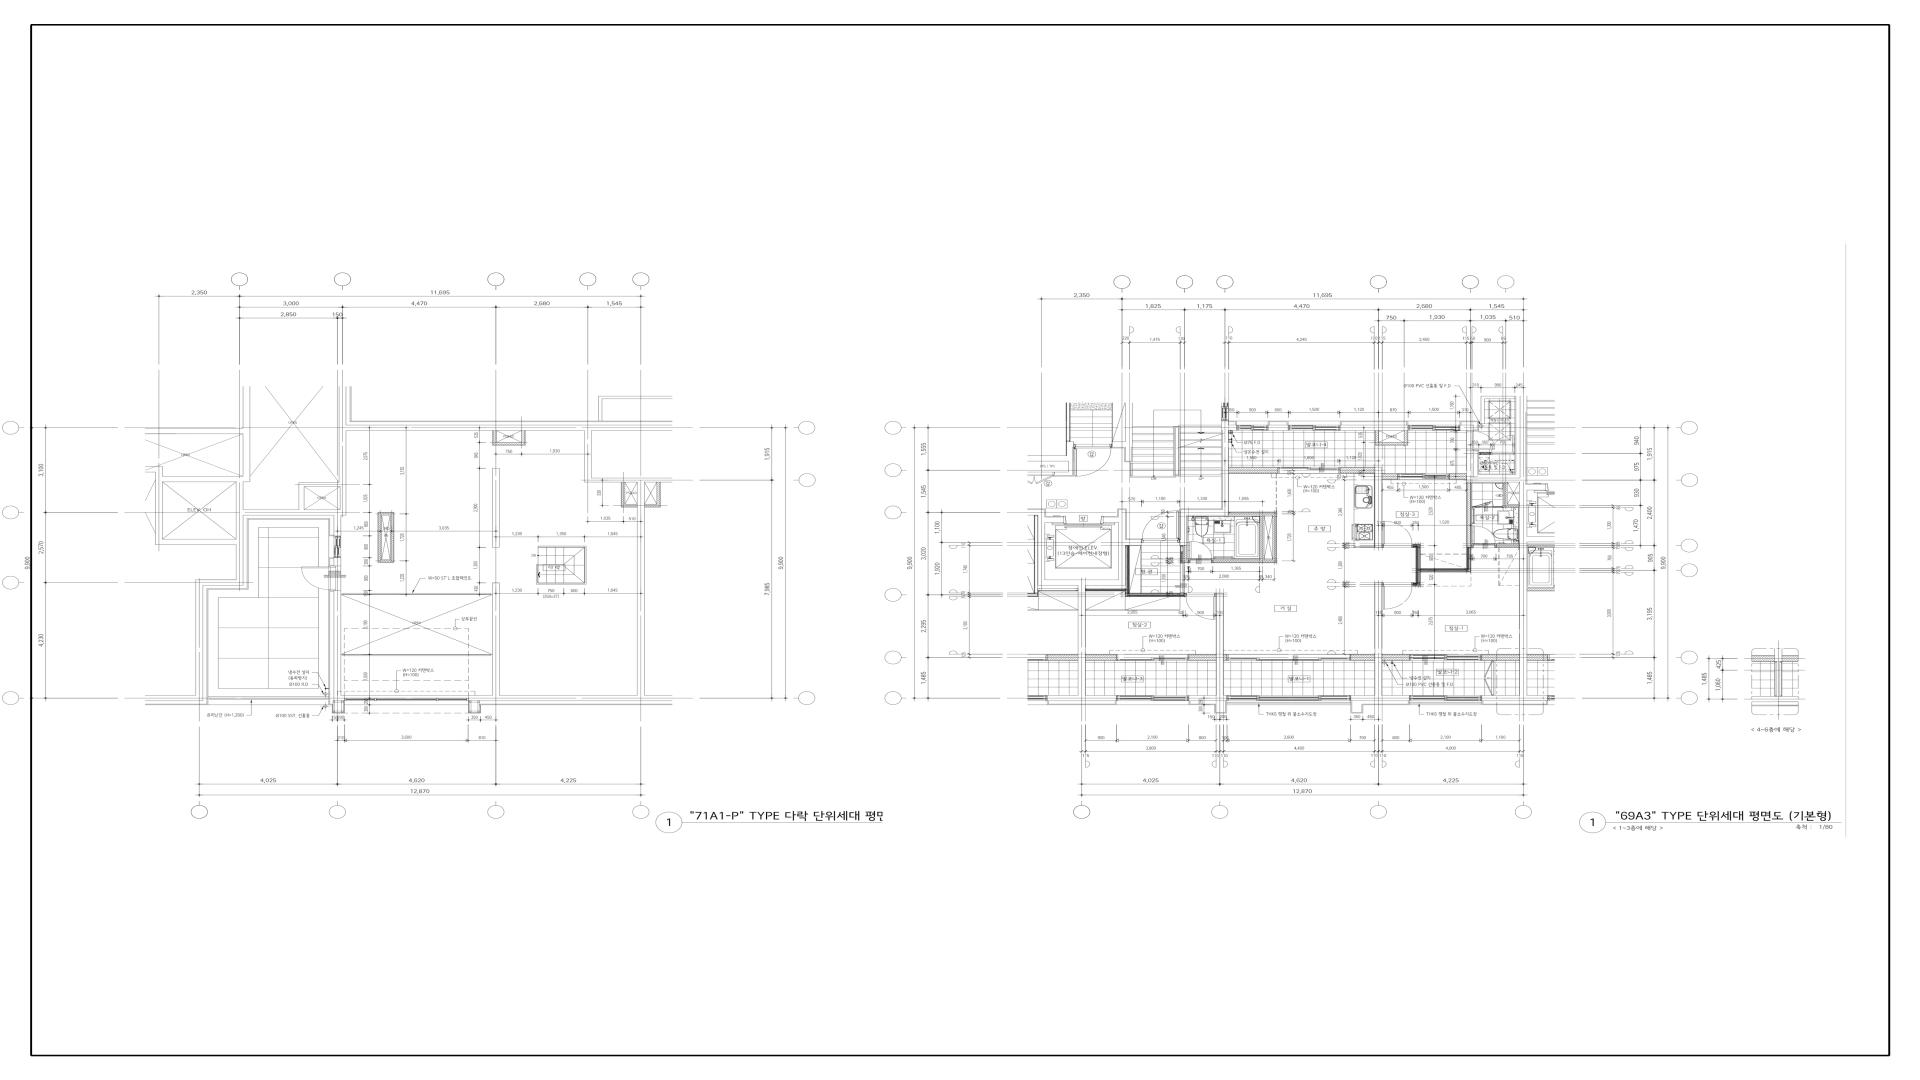door: (1142, 510, 1180, 546), (301, 566, 342, 591), (1184, 593, 1216, 622), (1382, 583, 1412, 609), (1382, 521, 1412, 547), (1466, 430, 1495, 450), (1188, 541, 1212, 563), (1491, 434, 1515, 455), (1473, 526, 1495, 547), (1474, 500, 1494, 508)
wall: (500, 508, 673, 700), (345, 425, 673, 483), (203, 514, 334, 589), (145, 386, 251, 476), (145, 467, 251, 545), (145, 589, 207, 704), (298, 386, 345, 510), (156, 481, 236, 545), (1027, 509, 1077, 585), (468, 583, 500, 702), (1126, 546, 1184, 596), (1212, 516, 1273, 563), (468, 700, 673, 713), (1412, 543, 1472, 587), (1228, 512, 1276, 563), (591, 477, 673, 508), (299, 487, 347, 535), (330, 591, 344, 713), (1466, 450, 1519, 483), (1085, 546, 1126, 585), (1027, 442, 1073, 476), (1221, 421, 1237, 516), (1519, 508, 1527, 695), (1104, 509, 1142, 546), (1112, 402, 1133, 462), (1515, 396, 1527, 480), (1480, 396, 1515, 423), (1077, 580, 1085, 695), (1374, 583, 1382, 695), (1216, 593, 1224, 695), (1350, 700, 1410, 713), (378, 513, 393, 562), (1374, 467, 1382, 547), (492, 468, 500, 547), (378, 516, 390, 562), (1375, 430, 1408, 446), (1188, 700, 1226, 713), (1481, 695, 1548, 702), (1050, 695, 1116, 702), (1466, 483, 1473, 547), (493, 431, 525, 444), (645, 483, 661, 506), (243, 509, 299, 516), (622, 483, 637, 508), (1340, 425, 1408, 430), (1505, 483, 1519, 506), (1174, 426, 1180, 476), (1228, 467, 1278, 473), (1469, 654, 1519, 661), (1350, 695, 1410, 700), (1179, 509, 1222, 516), (1340, 421, 1408, 425), (1481, 702, 1548, 705), (1050, 702, 1117, 705), (1221, 421, 1225, 487), (1188, 695, 1226, 702), (1179, 516, 1187, 546), (1340, 467, 1375, 473), (1519, 480, 1527, 508), (1460, 421, 1480, 431), (1085, 654, 1117, 661), (1050, 654, 1079, 661), (1188, 654, 1216, 661), (1527, 654, 1555, 661), (1350, 654, 1374, 661), (1269, 425, 1288, 431), (1449, 473, 1466, 480), (1382, 654, 1398, 661), (1382, 473, 1398, 480), (1527, 543, 1552, 547), (1460, 425, 1474, 431), (1495, 543, 1519, 547), (1183, 546, 1188, 563), (1269, 421, 1288, 425), (334, 558, 342, 566), (1229, 421, 1237, 425), (1480, 452, 1491, 455), (1224, 654, 1228, 661), (1494, 506, 1503, 508), (1472, 506, 1474, 508)
window: (1226, 654, 1350, 661), (1226, 695, 1350, 700), (207, 696, 328, 700), (1116, 695, 1188, 702), (1117, 654, 1188, 661), (1398, 654, 1469, 661), (1278, 467, 1340, 473), (1408, 425, 1460, 431), (1398, 473, 1449, 480), (344, 698, 468, 700), (1288, 425, 1340, 430), (1237, 425, 1269, 431), (334, 535, 342, 558)
